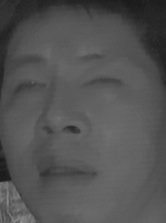eye: (82, 72, 123, 94), (13, 77, 48, 97)
mouth: (33, 154, 98, 192)
